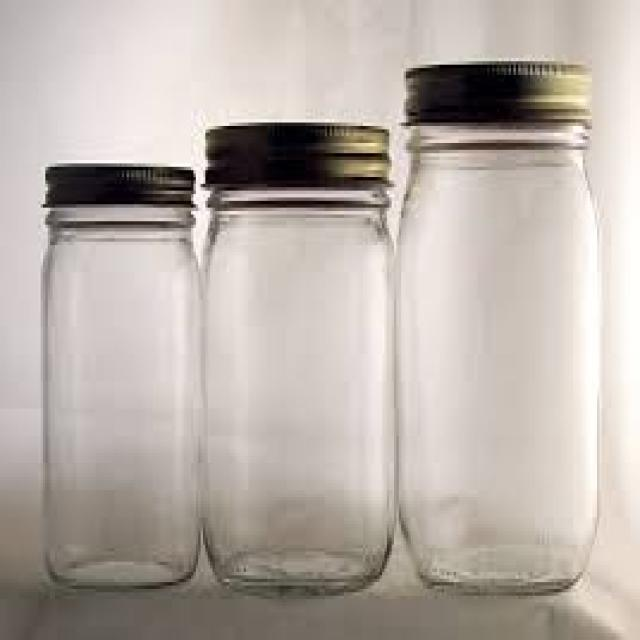glass: (392, 123, 600, 593), (194, 184, 390, 582), (38, 204, 198, 586)
metal: (401, 61, 590, 123), (200, 123, 387, 174), (43, 163, 193, 208)
